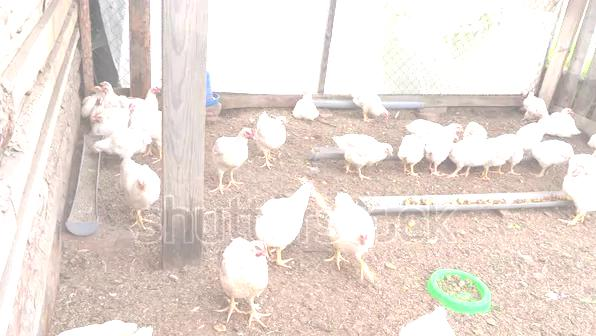Pollos: (256, 178, 317, 244), (218, 235, 266, 299), (330, 190, 373, 253), (330, 132, 395, 167), (116, 158, 159, 210), (212, 126, 257, 172), (89, 129, 144, 160), (530, 139, 573, 173), (426, 122, 463, 161), (256, 109, 288, 153), (563, 168, 595, 212), (350, 86, 390, 120), (127, 101, 163, 138), (399, 136, 426, 174), (454, 141, 487, 172), (552, 106, 581, 140), (292, 90, 319, 121), (92, 109, 125, 133), (522, 90, 548, 119), (502, 131, 520, 167), (97, 83, 121, 106), (463, 122, 489, 139)
